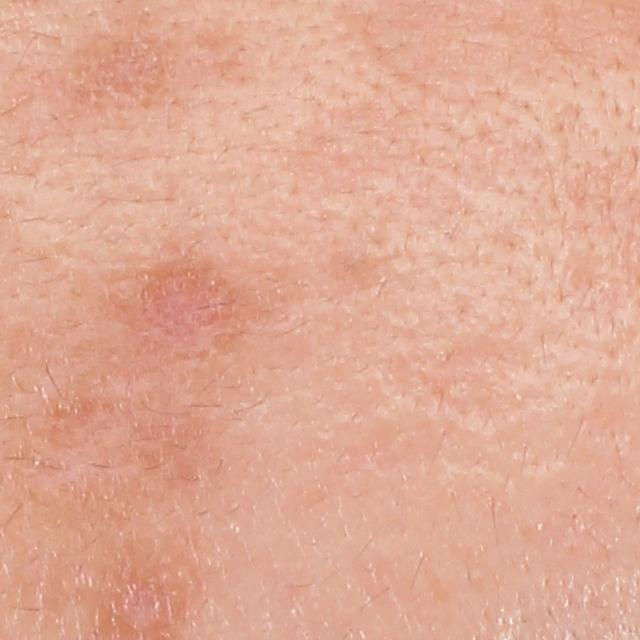atrophic_scar: (390, 339, 529, 425), (132, 262, 223, 340), (195, 21, 257, 91), (80, 43, 156, 93)
